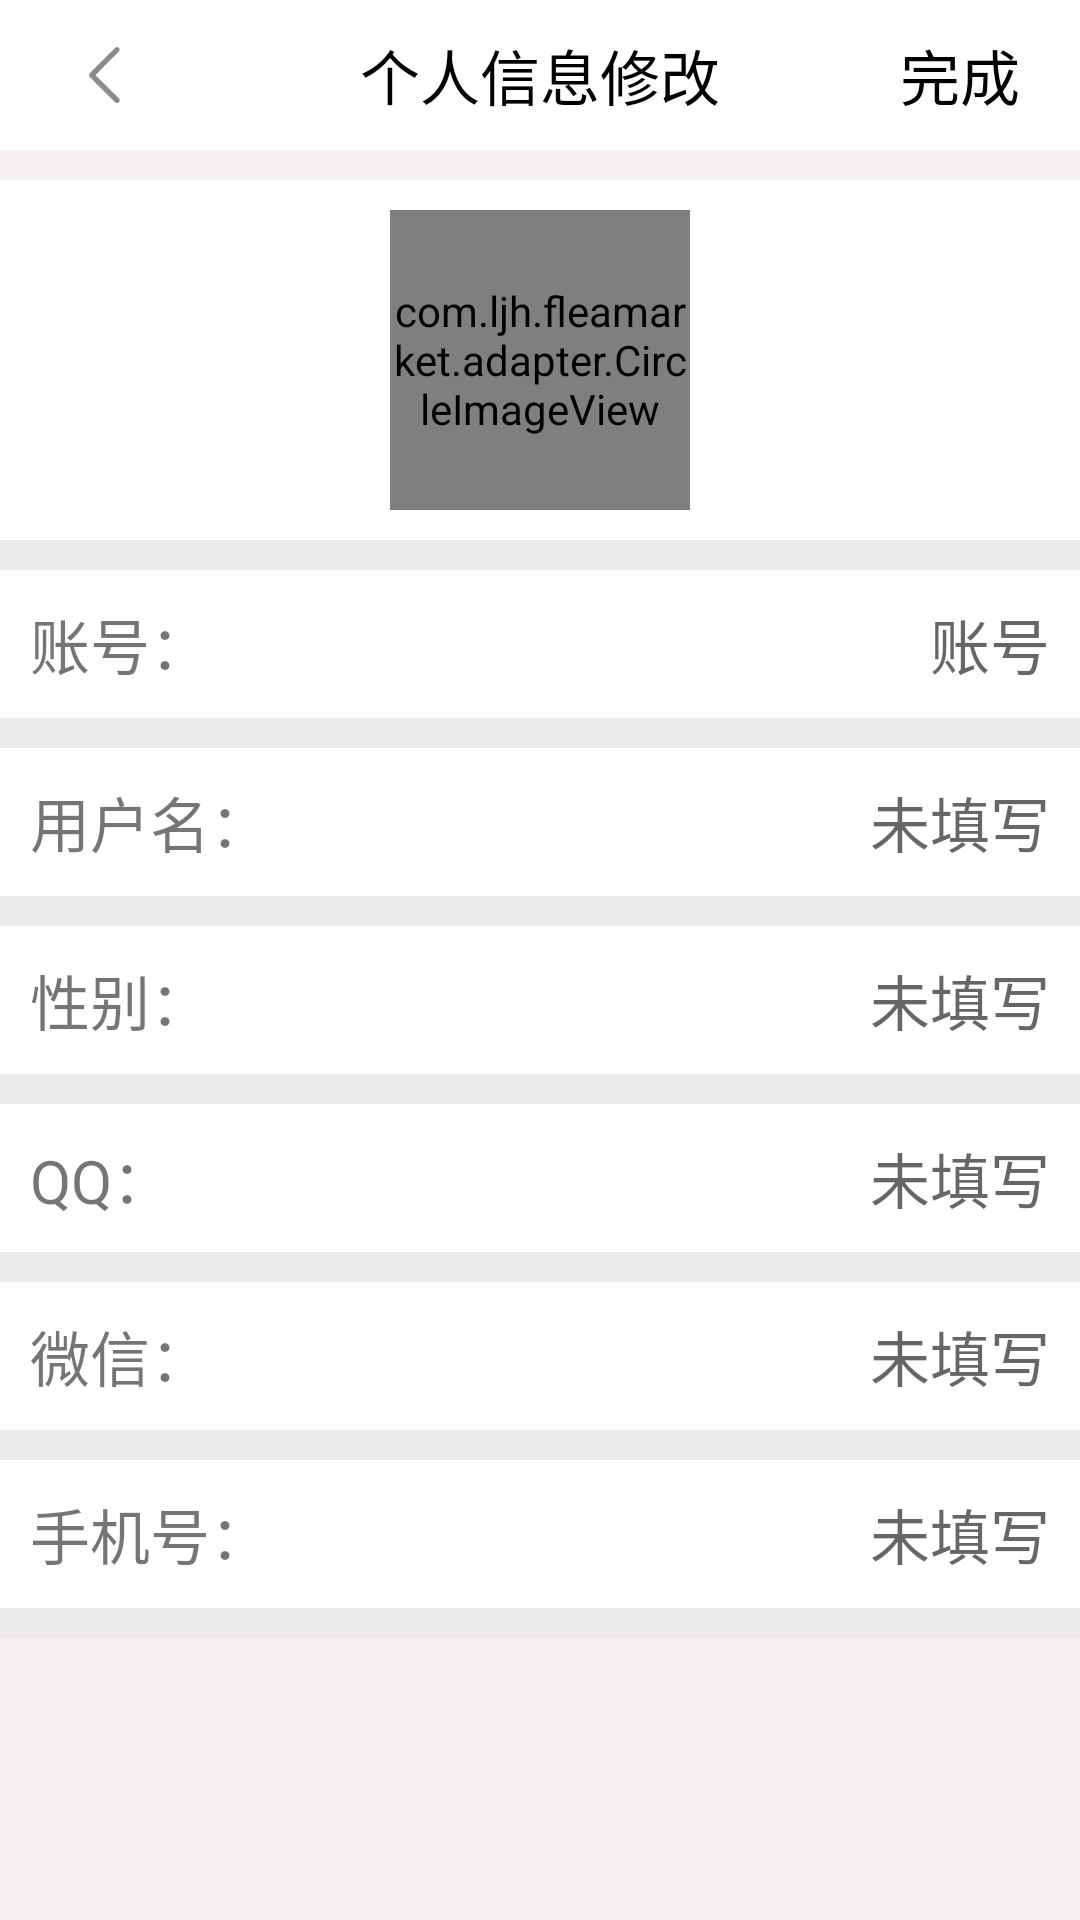

Where to tap for icons on this 1080 x 1920 app screen, as point (x, y):
arrow back: point (104, 75)
